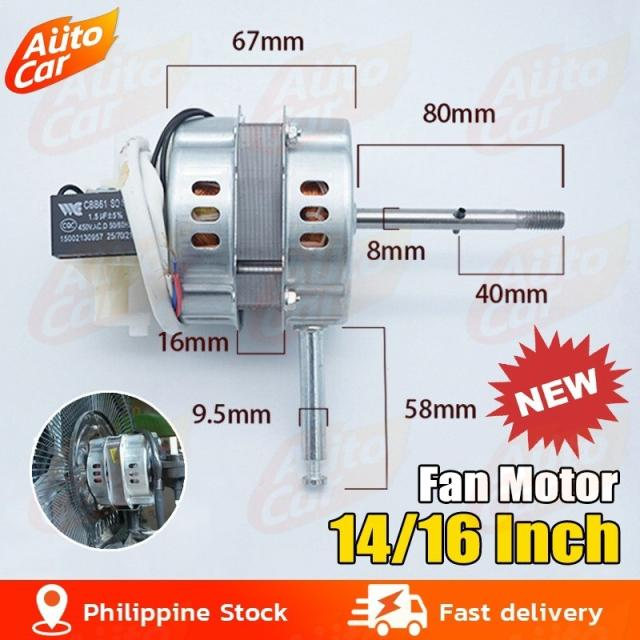fans: (150, 108, 213, 186)
